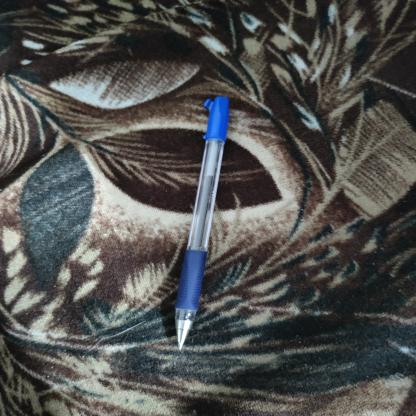Pen: (147, 74, 246, 358)
